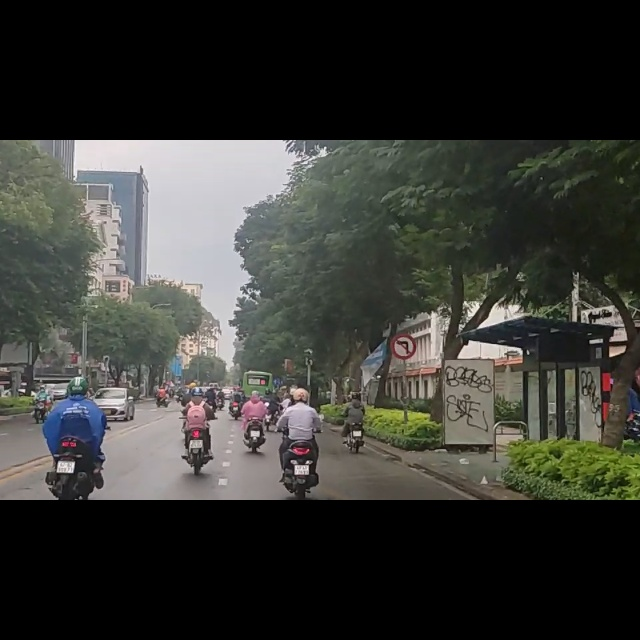bien_cam: (393, 348, 416, 390)
